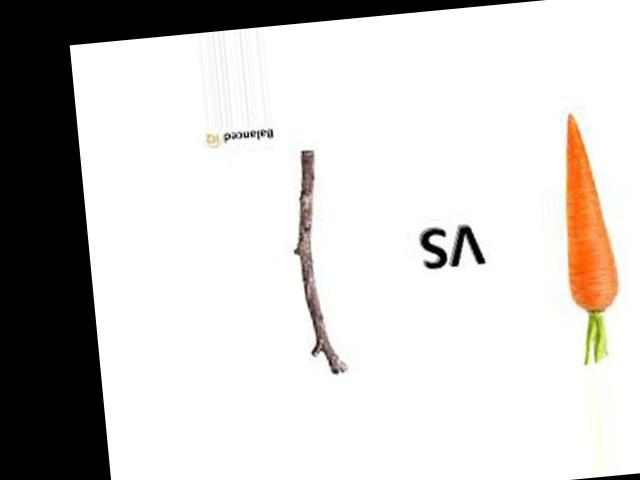carrot: (543, 103, 624, 325)
